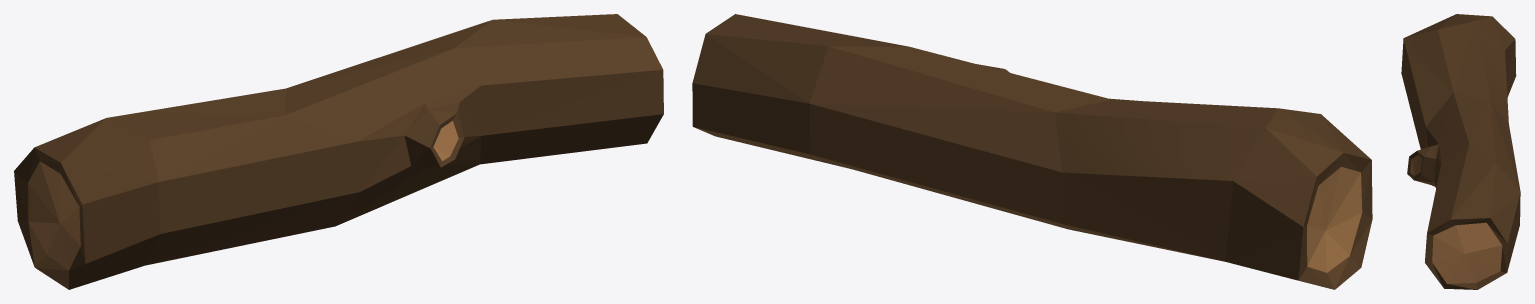
File: WiseLog.fbx
The picture shows the model from 3 angles, left to right: view 1: azimuth 30°, elevation 25°; view 2: azimuth 150°, elevation 25°; view 3: azimuth 270°, elevation 25°; orthographic projection. The views are drawn at different scales.
Visible parts, largest first — view 1: log00; view 2: log00; view 3: log00.
Boxes of the visible parts, box(x1,y1,x2,y2) form: log00: box(14, 14, 663, 289); log00: box(692, 14, 1372, 289); log00: box(1401, 14, 1520, 289).
Bounding box in the file's own units: 100 × 22.83 × 25.25.
